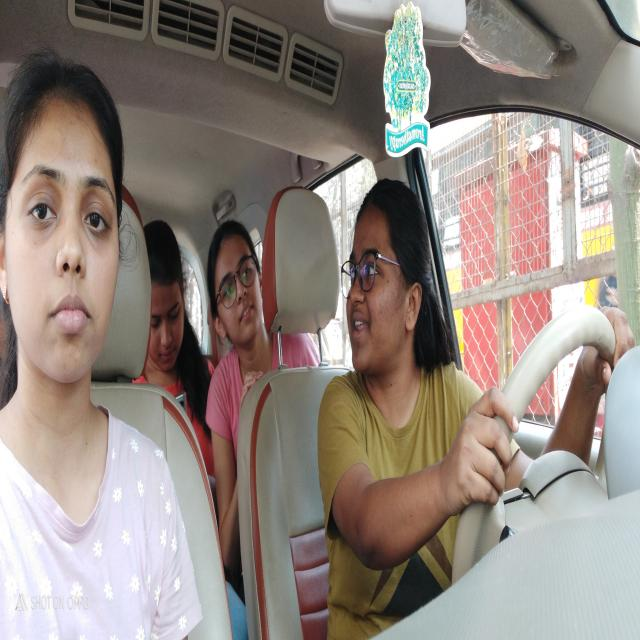LeftRight: (344, 195, 430, 372)
person: (11, 75, 122, 389), (203, 222, 266, 352), (150, 252, 186, 368)
talking: (350, 308, 370, 338)
